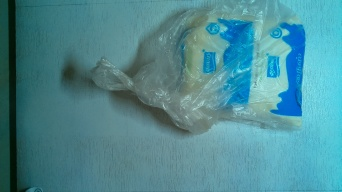m: (159, 3, 320, 135)
